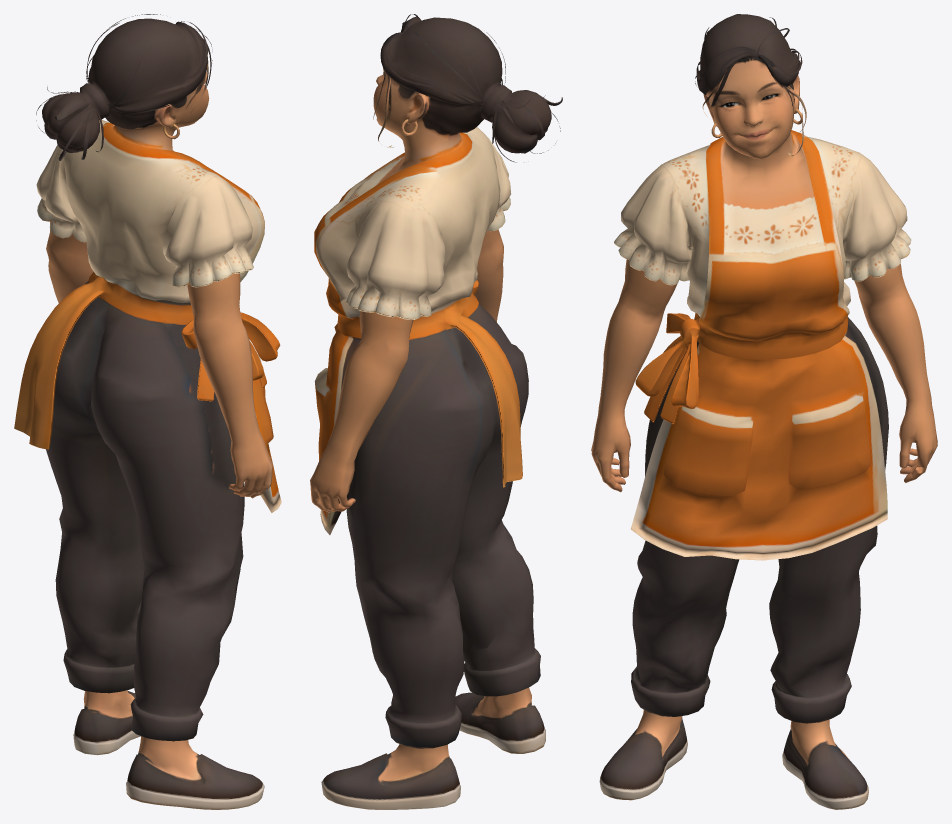
File: tripo_convert_bdcf36be-9a31-4d1f-9a2d-9e0a8a4ddd9c.glb
The picture shows the model from 3 angles, left to right: view 1: azimuth 30°, elevation 25°; view 2: azimuth 150°, elevation 25°; view 3: azimuth 270°, elevation 25°; orthographic projection.
Visible parts, largest first — view 1: tripo_node_bdcf36be-9a31-4d1f-9a2d-9e0a8a4ddd9c; view 2: tripo_node_bdcf36be-9a31-4d1f-9a2d-9e0a8a4ddd9c; view 3: tripo_node_bdcf36be-9a31-4d1f-9a2d-9e0a8a4ddd9c.
Boxes of the visible parts, x1,y1,x2,y2 form: tripo_node_bdcf36be-9a31-4d1f-9a2d-9e0a8a4ddd9c: (14, 14, 281, 809); tripo_node_bdcf36be-9a31-4d1f-9a2d-9e0a8a4ddd9c: (310, 14, 562, 809); tripo_node_bdcf36be-9a31-4d1f-9a2d-9e0a8a4ddd9c: (591, 14, 937, 809).
Bounding box in the file's own units: 0.2954 × 0.9995 × 0.4155.
1 material, 1 textured.
